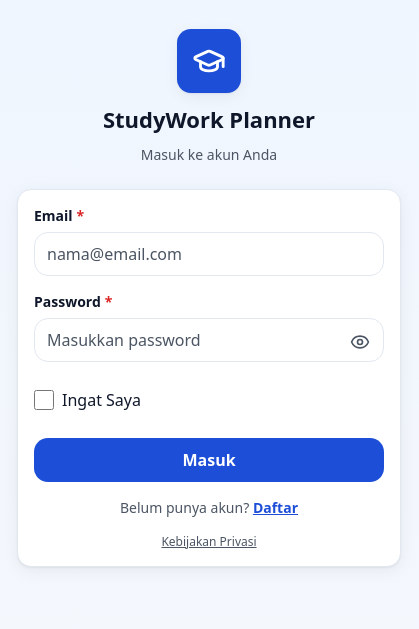
LoginPage › masuk sukses -> pengumuman sesi + toast
Type "budi@example.test" into the field labelled "Email*" at (209, 254), box [34,232,384,276]
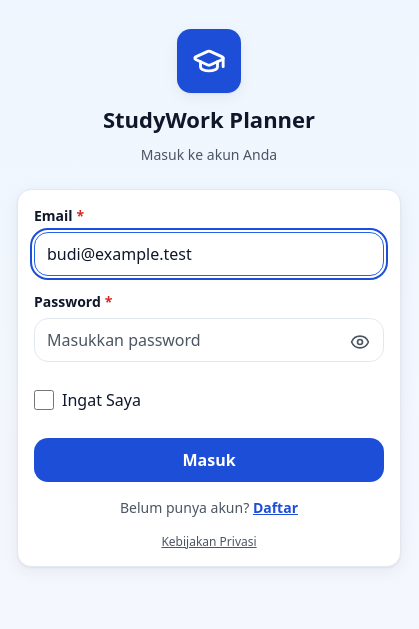
Type "PasswordKuat1" into the password field labelled "Password*" at (209, 340), box [34,318,384,362]
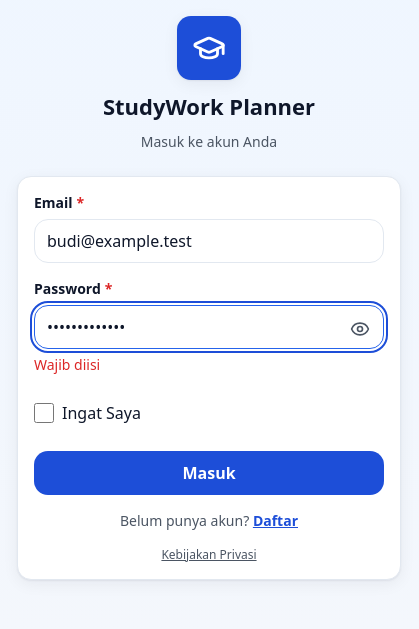
Click the button "Masuk" at (209, 473), box [34,451,384,495]
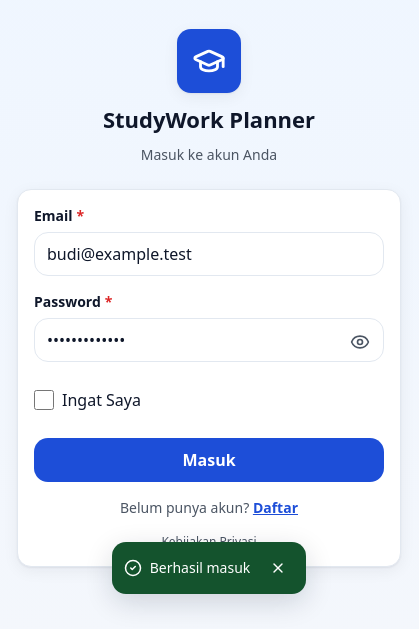
Now the text "Berhasil masuk" is shown, box [150,558,250,578]
